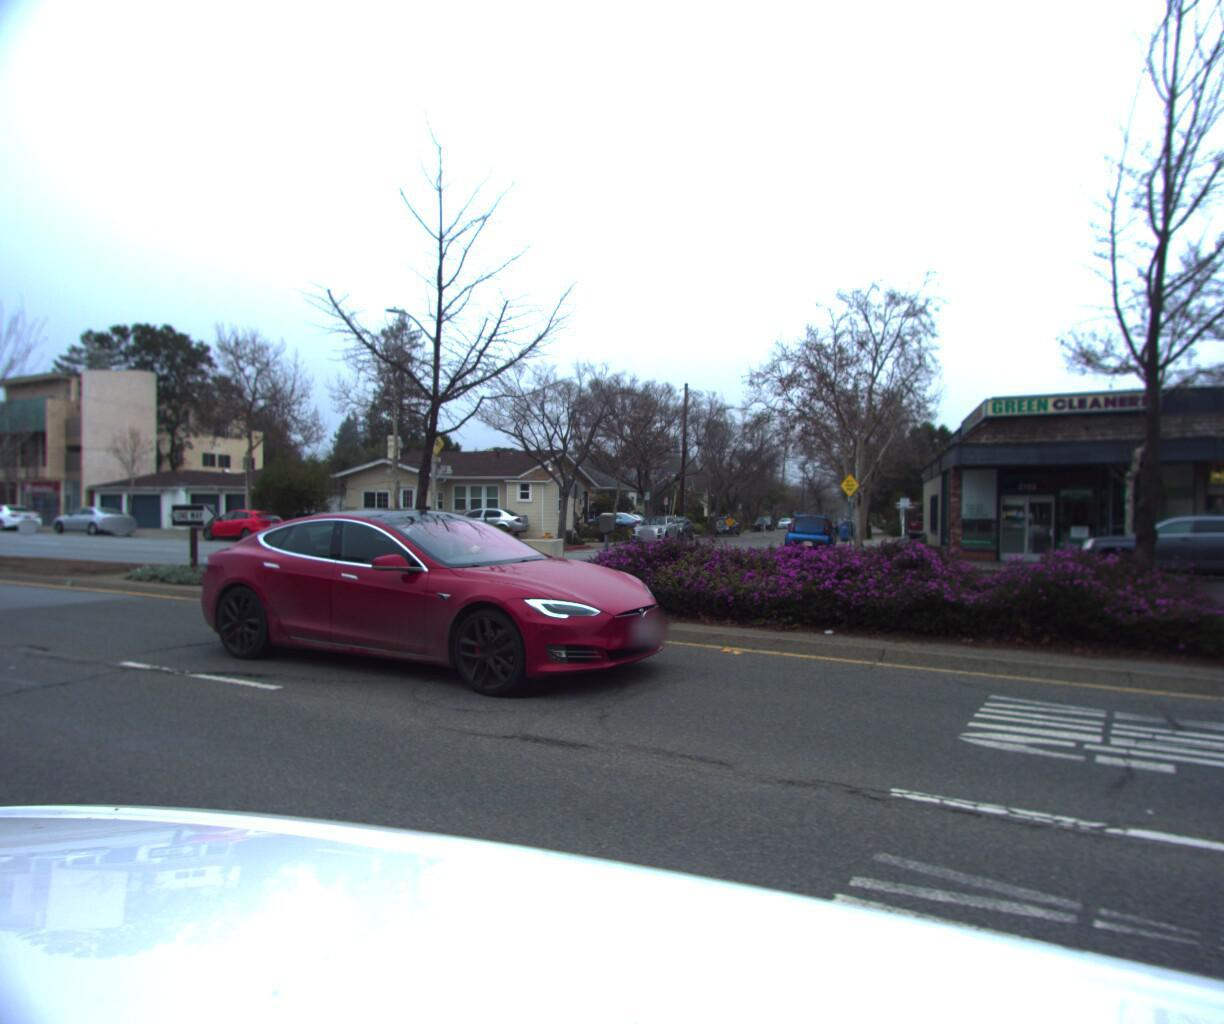car: (172, 489, 700, 700), (1064, 500, 1224, 586), (269, 513, 389, 552), (429, 507, 533, 541), (192, 511, 286, 547), (43, 510, 138, 542), (780, 511, 834, 558), (626, 514, 681, 543), (903, 510, 950, 541), (651, 516, 696, 540), (707, 517, 738, 535), (832, 516, 856, 534)
